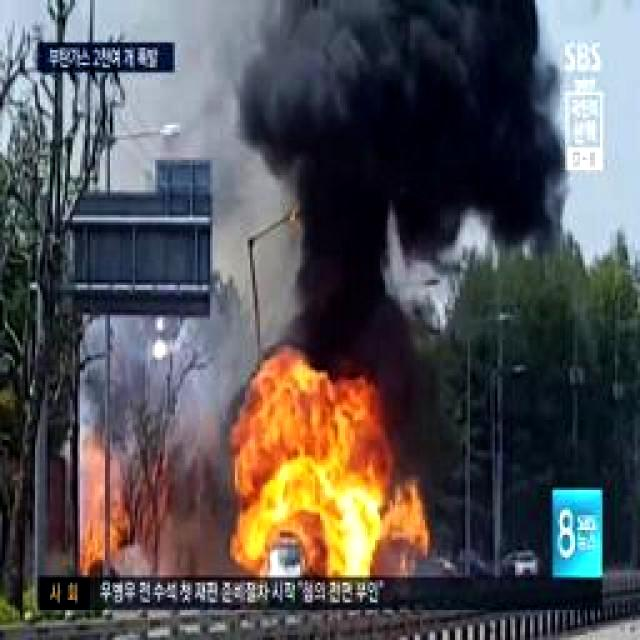fire: (237, 362, 383, 578), (76, 502, 115, 570)
